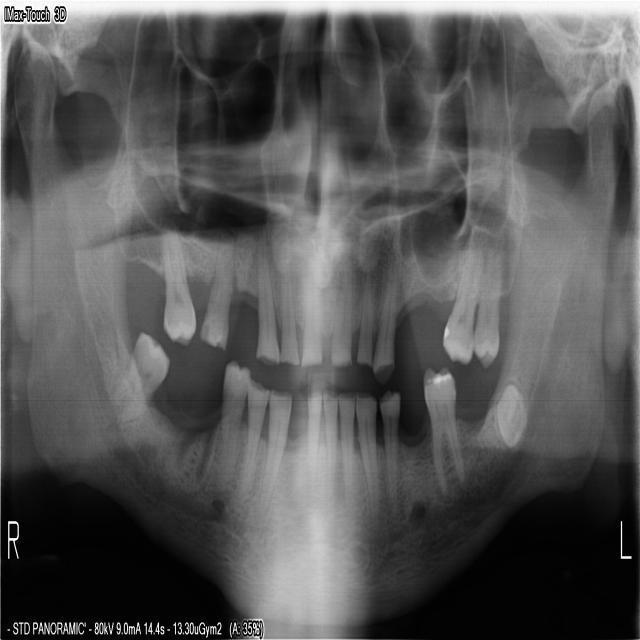LCD: (355, 390, 382, 513)
LCU: (372, 235, 401, 383)
LID: (339, 390, 356, 515), (324, 383, 338, 504)
LIU: (327, 222, 355, 372), (354, 227, 375, 371)
LMU: (439, 235, 488, 368), (470, 233, 505, 372)
LPMD: (421, 358, 472, 502), (380, 385, 405, 507)
RCD: (252, 383, 294, 524)
RCU: (255, 224, 280, 368)
RID: (302, 387, 321, 508)
RIU: (299, 226, 325, 372), (277, 221, 298, 372)
RMD: (119, 318, 174, 413)
RMU: (159, 221, 198, 351)
RPMD: (211, 360, 251, 494), (233, 368, 269, 508)
RPMU: (197, 229, 237, 355)
